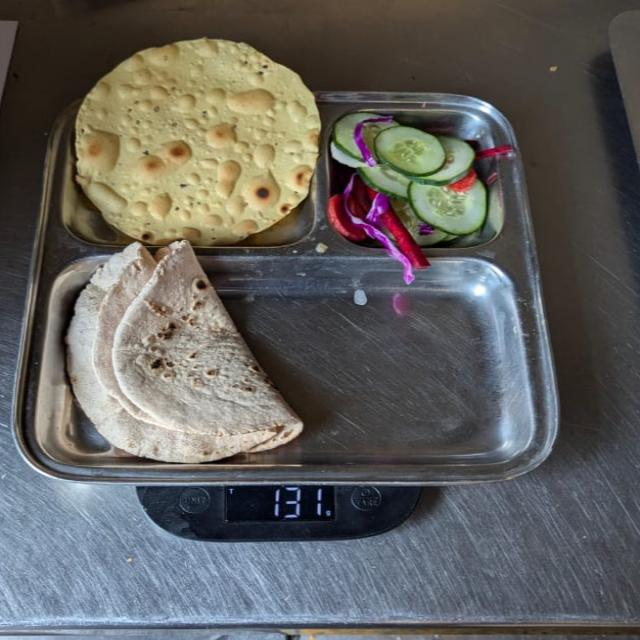Chapati: (67, 244, 302, 468)
Papad: (76, 37, 322, 242)
Salad: (335, 114, 501, 276)
